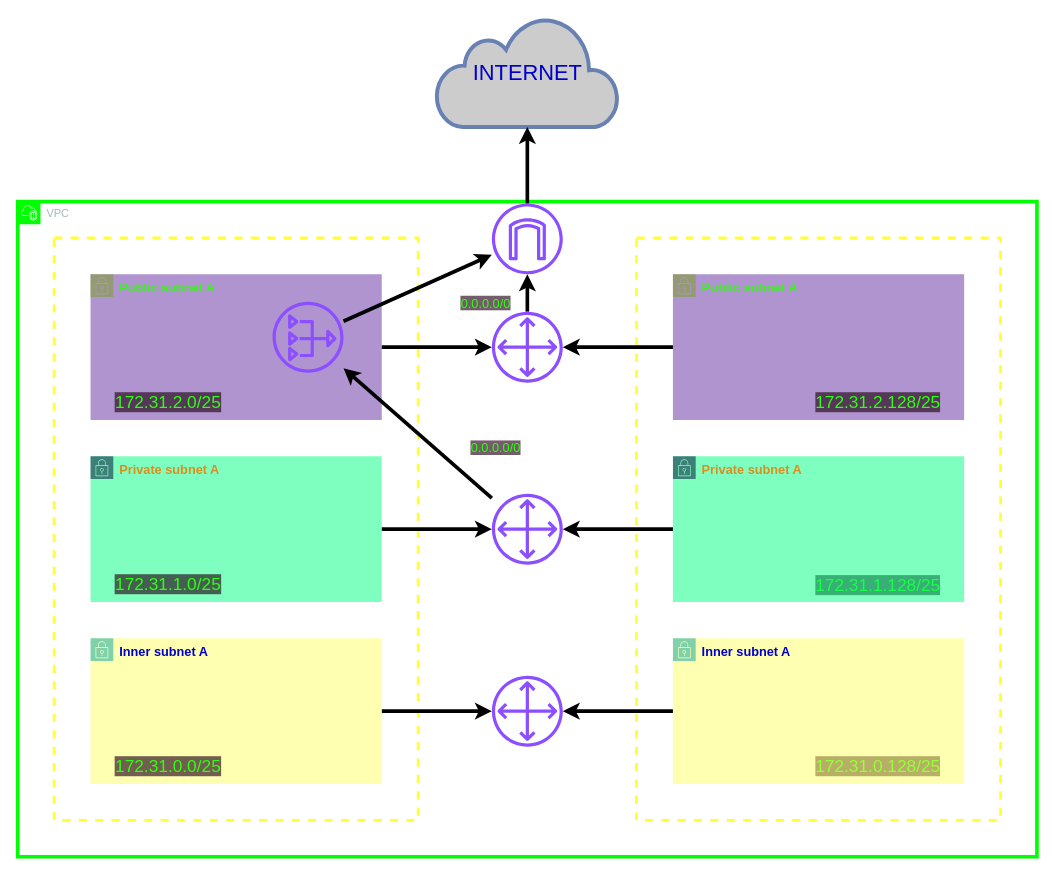
The diagram is 1054 pixels wide and 874 high, and some of its shapes have lost their labels. Each missing label, with the box of its shape:
Availability Zone A: (52, 236, 419, 821)
Availability Zone B: (635, 236, 1001, 821)
IGW: (491, 203, 562, 274)
NAT GW: (272, 301, 343, 372)
